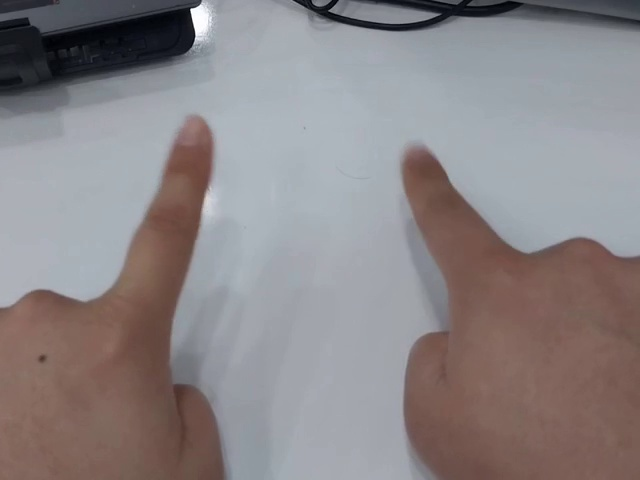fingers: (167, 112, 216, 183), (398, 143, 450, 198)
